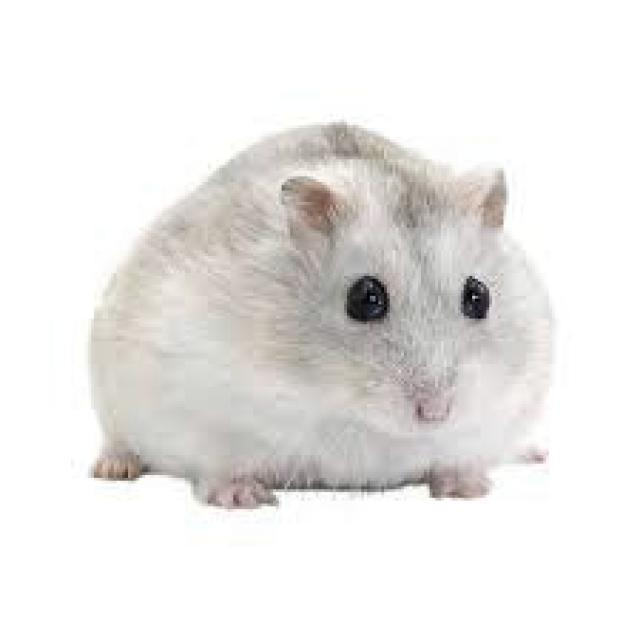hamster: (94, 122, 552, 503)
